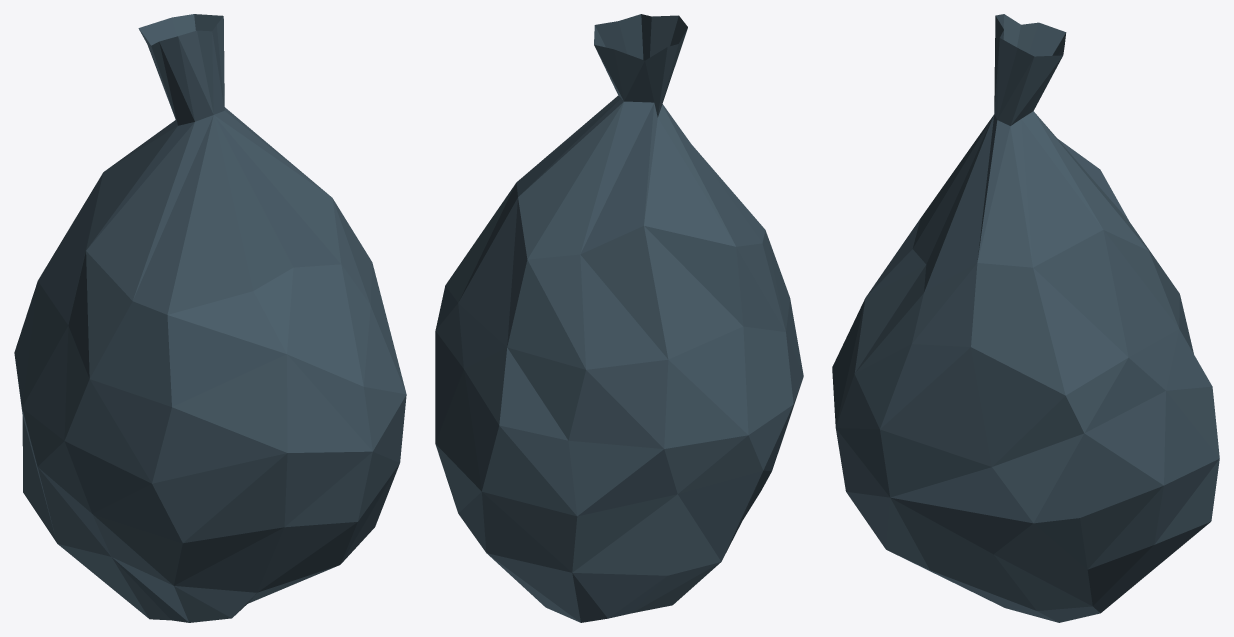
The model's file is trah bag grey.glb.
3 views of the same model, side by side, from view 1: azimuth 30°, elevation 25°; view 2: azimuth 150°, elevation 25°; view 3: azimuth 270°, elevation 25° (orthographic). The views are drawn at different scales.
Visible parts, largest first — view 1: group104413426; view 2: group104413426; view 3: group104413426.
Boxes of the visible parts, bbox=[...] form: group104413426: bbox=[14, 14, 406, 622]; group104413426: bbox=[435, 14, 803, 622]; group104413426: bbox=[832, 14, 1219, 622].
Bounding box in the file's own units: 0.2365 × 0.4066 × 0.2464.
